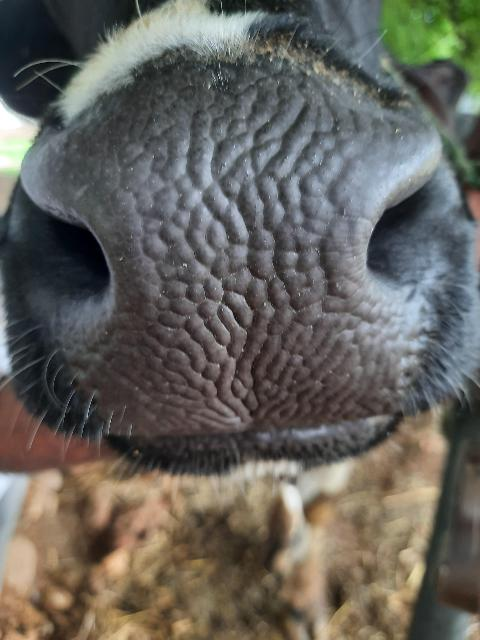Muzzle: (50, 115, 414, 428)
